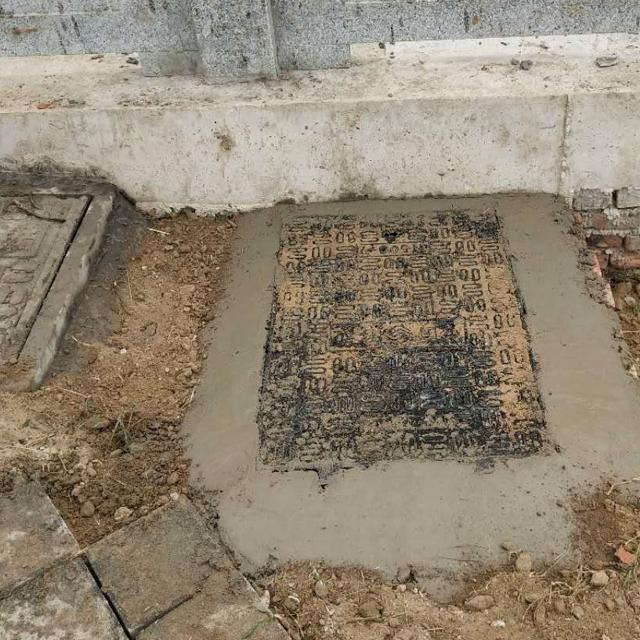good: (247, 202, 564, 467)
